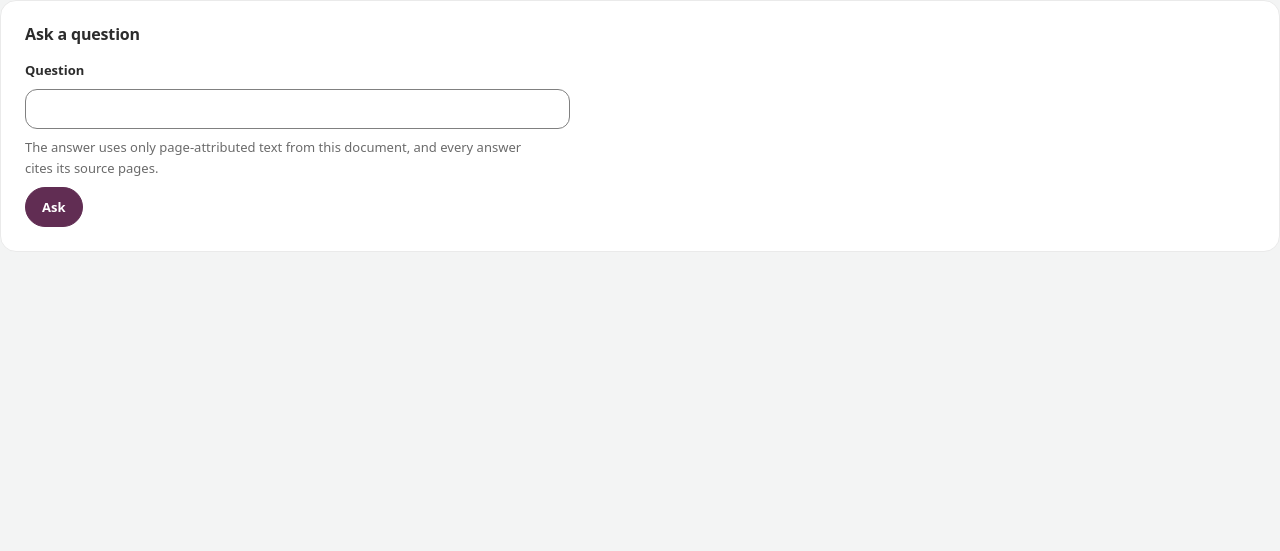
Scenario: AskPanel › posts the question and renders the answer with one citation per source page
Type "What penalty applies to late filings?" into the field labelled "Question". click: (297, 109)
box: [25,89,570,129]
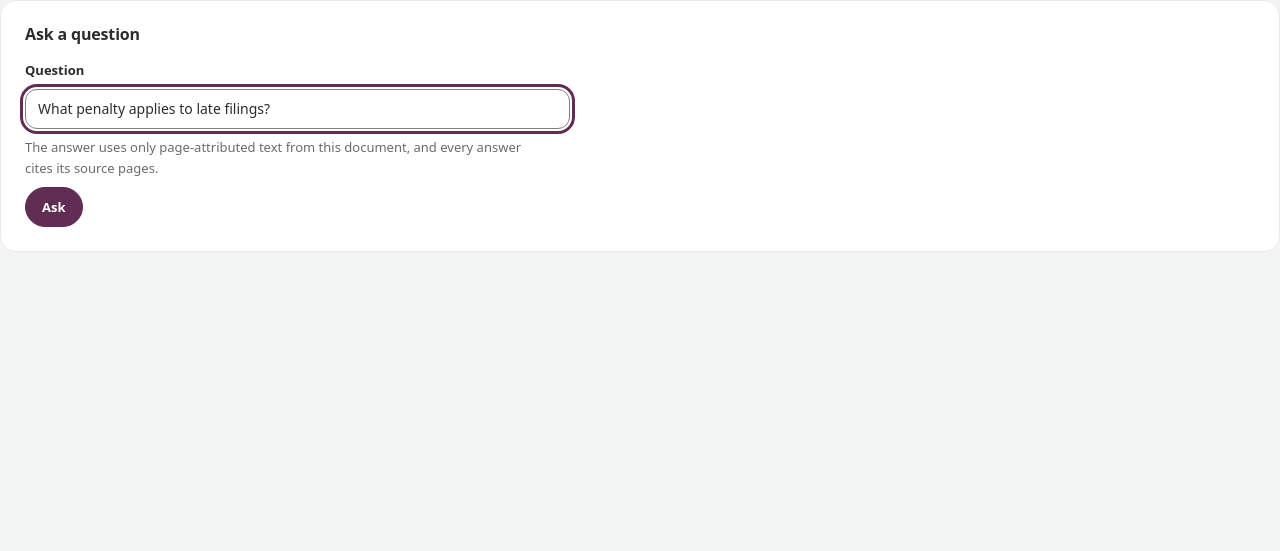
Click the button "Ask". click: (54, 207)
box: [25,187,82,227]
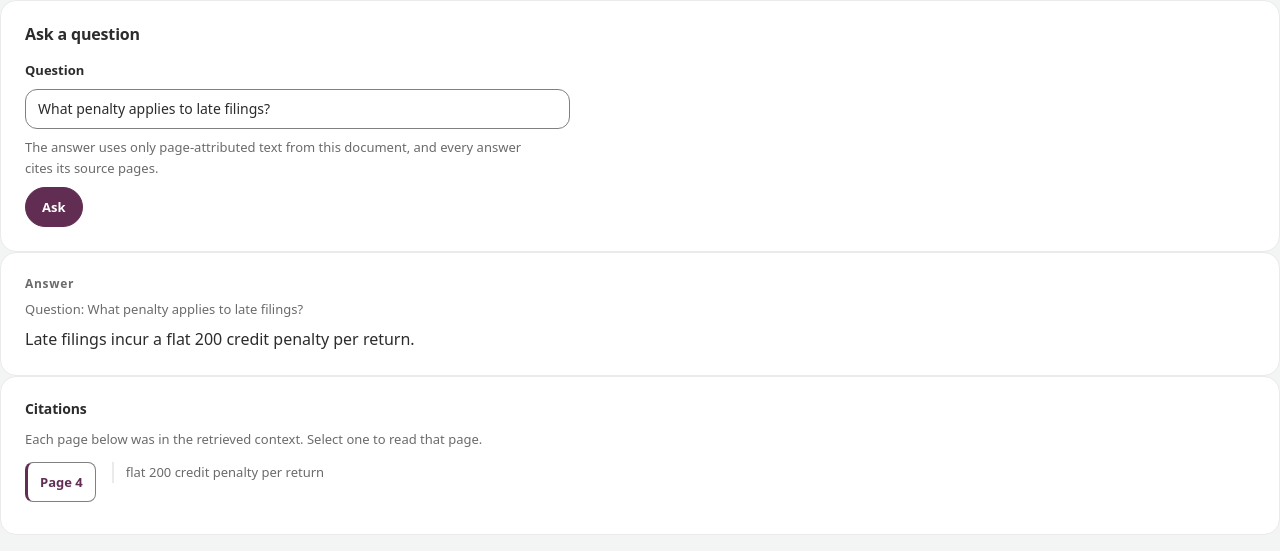
Result: the text "Late filings incur a flat 200 credit penalty per return." is shown at [25,328,415,350]
Result: the button "Page 4" is shown at [25,462,96,502]
